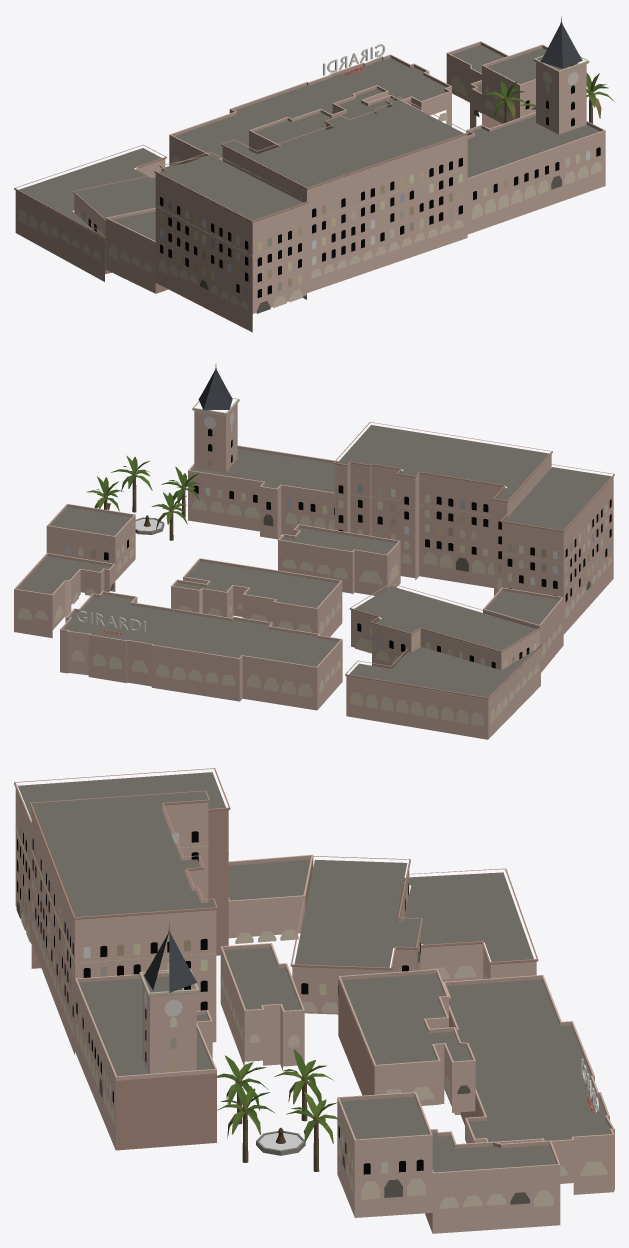
The model's file is ghirardelli_lod1.glb.
3 views of the same model, one above another, from view 1: azimuth 30°, elevation 25°; view 2: azimuth 150°, elevation 25°; view 3: azimuth 270°, elevation 25° (orthographic). The views are drawn at different scales.
Visible parts, largest first — view 1: L1_brickred, L1_roof, L1_win, L1_shop, L1_metal, L1_leaf, L1_neon; view 2: L1_brickred, L1_roof, L1_shop, L1_win, L1_leaf, L1_metal; view 3: L1_roof, L1_brickred, L1_shop, L1_win, L1_leaf, L1_metal, L1_bark.
Boxes of the visible parts, x1=… form: L1_brickred: x1=14, y1=41, x2=605, y2=332; L1_roof: x1=18, y1=44, x2=599, y2=240; L1_win: x1=77, y1=84, x2=600, y2=297; L1_shop: x1=18, y1=77, x2=601, y2=313; L1_metal: x1=540, y1=21, x2=582, y2=68; L1_leaf: x1=485, y1=64, x2=614, y2=119; L1_neon: x1=323, y1=44, x2=385, y2=75; L1_brickred: x1=14, y1=403, x2=614, y2=739; L1_roof: x1=18, y1=425, x2=611, y2=697; L1_shop: x1=18, y1=499, x2=611, y2=726; L1_win: x1=53, y1=424, x2=611, y2=668; L1_leaf: x1=86, y1=455, x2=200, y2=529; L1_metal: x1=143, y1=368, x2=232, y2=526; L1_roof: x1=18, y1=772, x2=610, y2=1172; L1_brickred: x1=14, y1=768, x2=614, y2=1233; L1_shop: x1=16, y1=900, x2=607, y2=1208; L1_win: x1=17, y1=818, x2=423, y2=1174; L1_leaf: x1=215, y1=1049, x2=343, y2=1143; L1_metal: x1=144, y1=930, x2=285, y2=1143; L1_bark: x1=237, y1=1075, x2=319, y2=1171.
Size of the model in its own units: 131 by 51.66 by 102.
